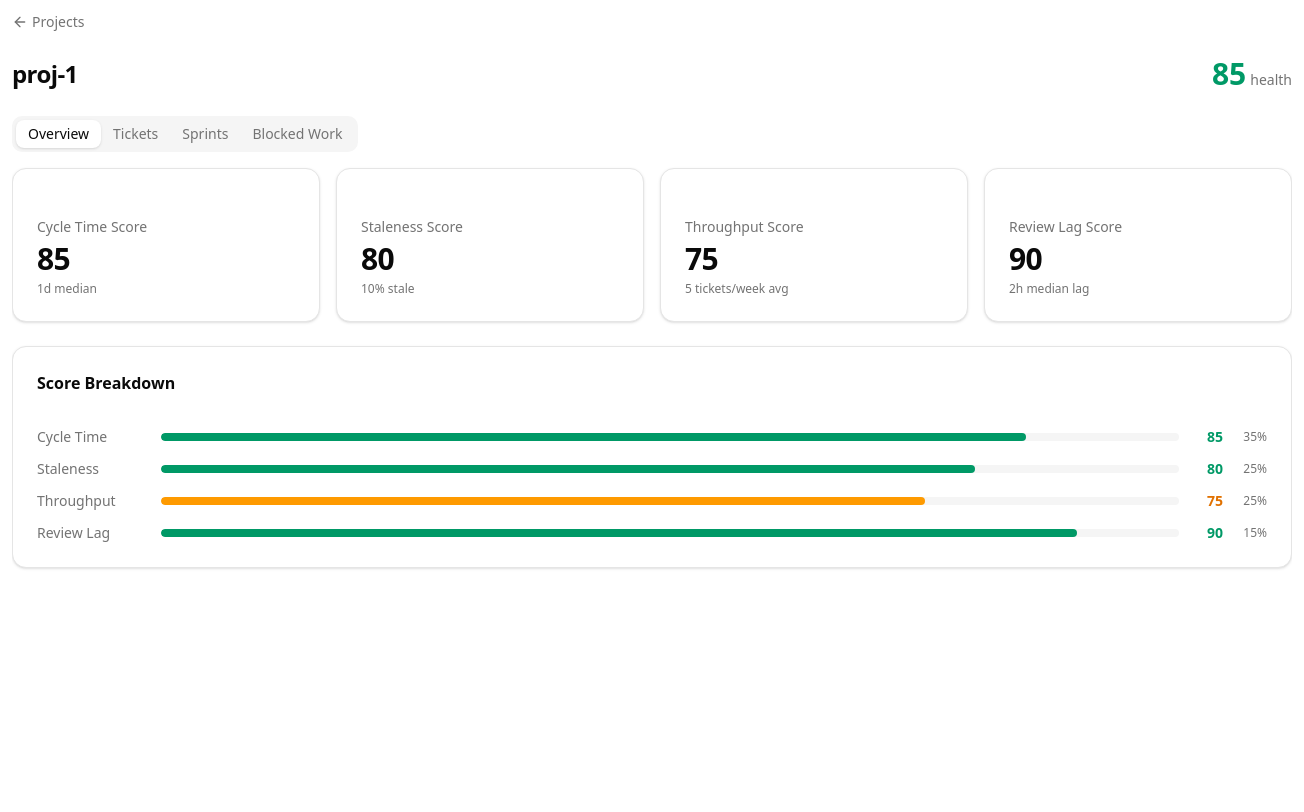
Test: ProjectDetail › blocked work tab shows the stale ticket count
Click the tab "Blocked Work" at (297, 134), box [240,120,354,148]
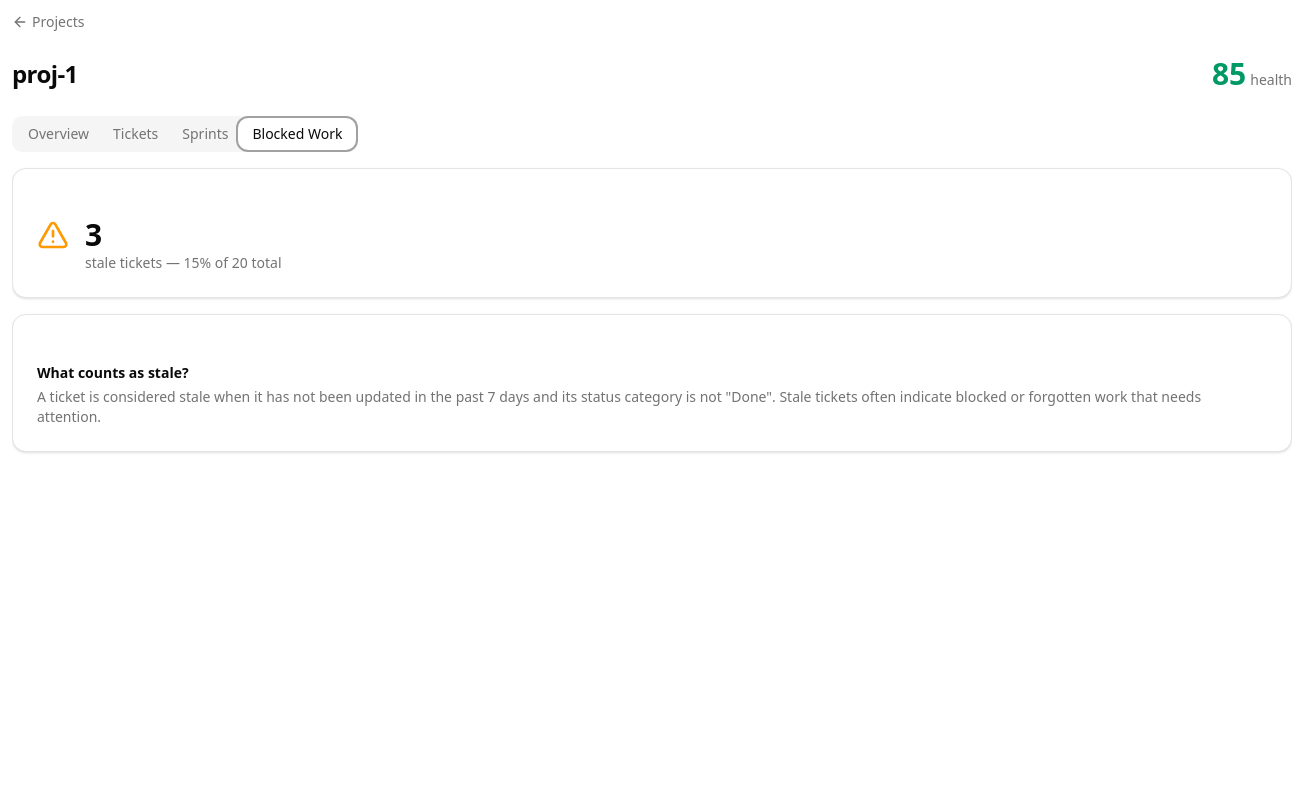
Now the text "stale tickets — 15% of 20 total" is shown, box [85,253,282,273]
